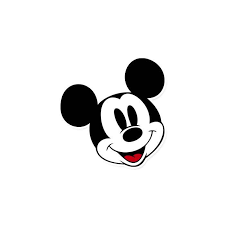mickey: (58, 57, 165, 167)
